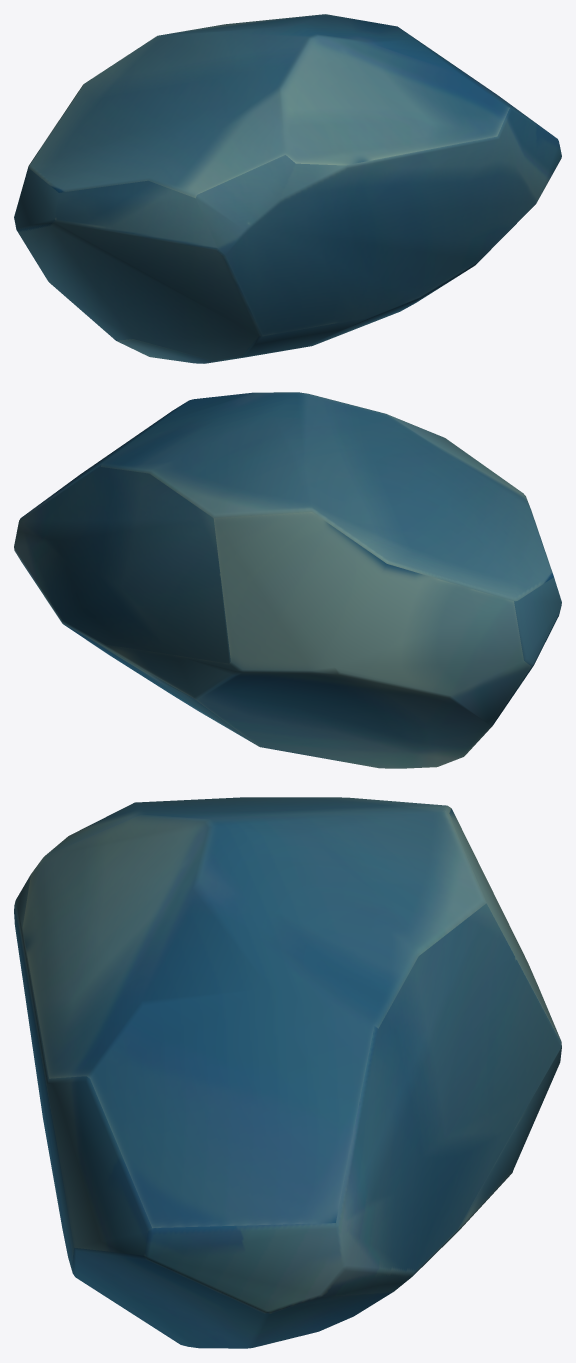
Rendered from rock3.fbx.
3 views of the same model, one above another, from view 1: azimuth 30°, elevation 25°; view 2: azimuth 150°, elevation 25°; view 3: azimuth 270°, elevation 25° (orthographic). The views are drawn at different scales.
Visible parts, largest first — view 1: Rock03; view 2: Rock03; view 3: Rock03.
Part boxes in pixels (x1,y1,x2,y2): Rock03: (14,14,561,363); Rock03: (14,392,561,768); Rock03: (14,797,561,1348).
Size of the model in its own units: 3.03 by 1.84 by 1.85.
